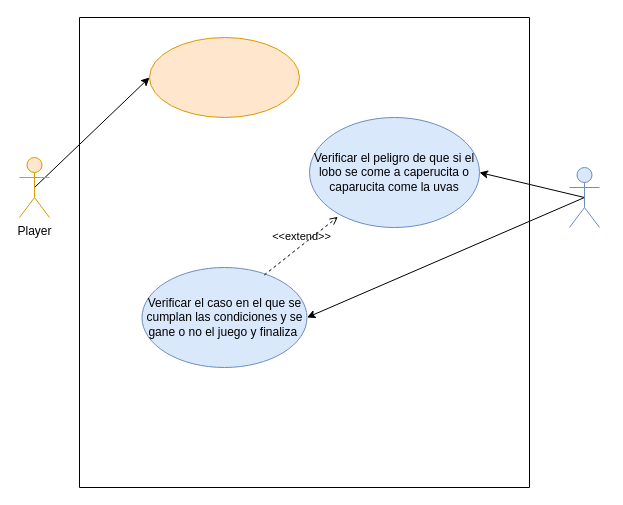
The diagram is 623 pixels wide and 505 high, and some of its shapes have lost their labels. Each missing label, with the centre of its shape:
En el turno va a seleccionar y llevar algun actor al otro lado del rio: (224,77)
Sistema: (584,197)
